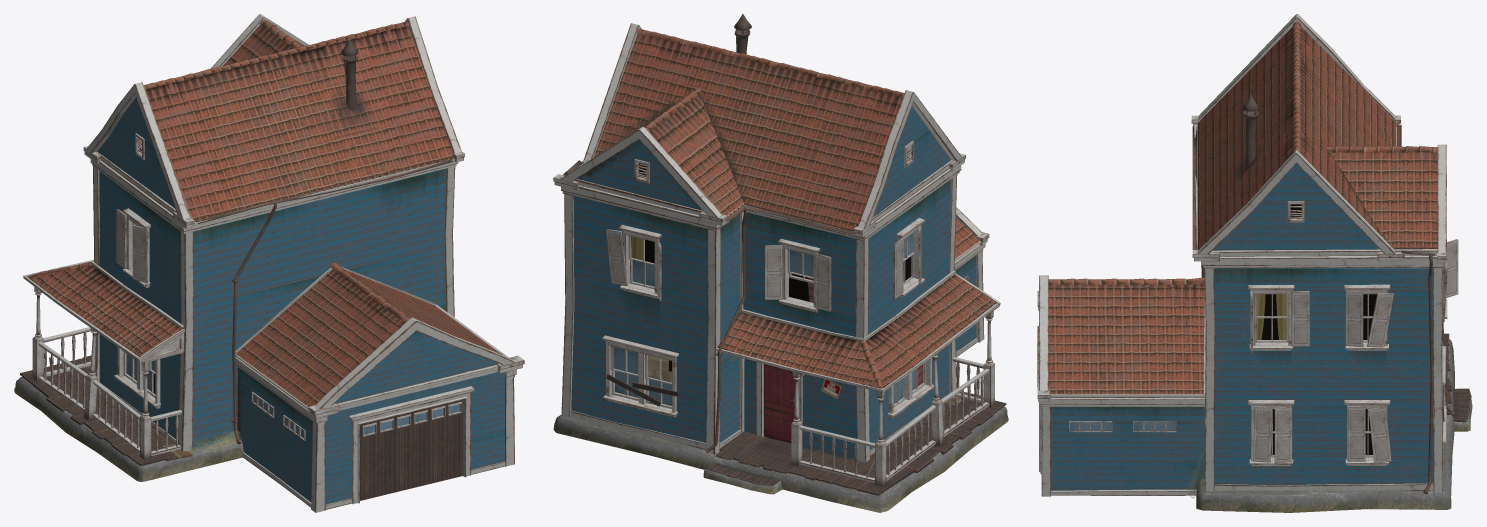
File: shabby_house.glb
3 renders of one model, left to right at view 1: azimuth 30°, elevation 25°; view 2: azimuth 150°, elevation 25°; view 3: azimuth 270°, elevation 25°, orthographic.
Visible parts, largest first — view 1: Object_3, Object_4, Object_2; view 2: Object_3, Object_4, Object_2; view 3: Object_3, Object_4, Object_2.
Part boxes in pixels (box(x1,y1,x2,y2)): Object_3: box(14, 14, 524, 512); Object_4: box(20, 25, 501, 465); Object_2: box(29, 90, 426, 457); Object_3: box(553, 14, 1008, 512); Object_4: box(563, 29, 1006, 495); Object_2: box(576, 87, 947, 488); Object_3: box(1037, 14, 1472, 512); Object_4: box(1048, 111, 1471, 454); Object_2: box(1187, 145, 1386, 497).
Size of the model in its own units: 1596 by 1652 by 1739.
Materials: 2 (2 with a texture image).
